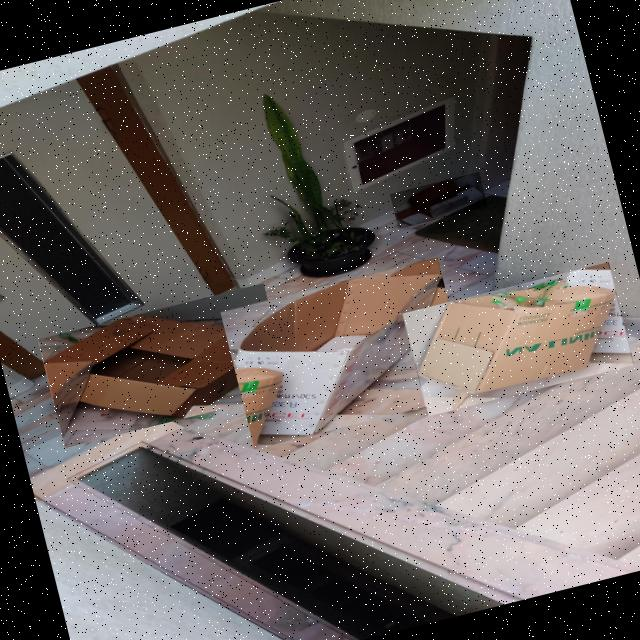Corrugated carton: (235, 274, 441, 435), (419, 280, 616, 409), (44, 315, 277, 418), (396, 180, 484, 225)
